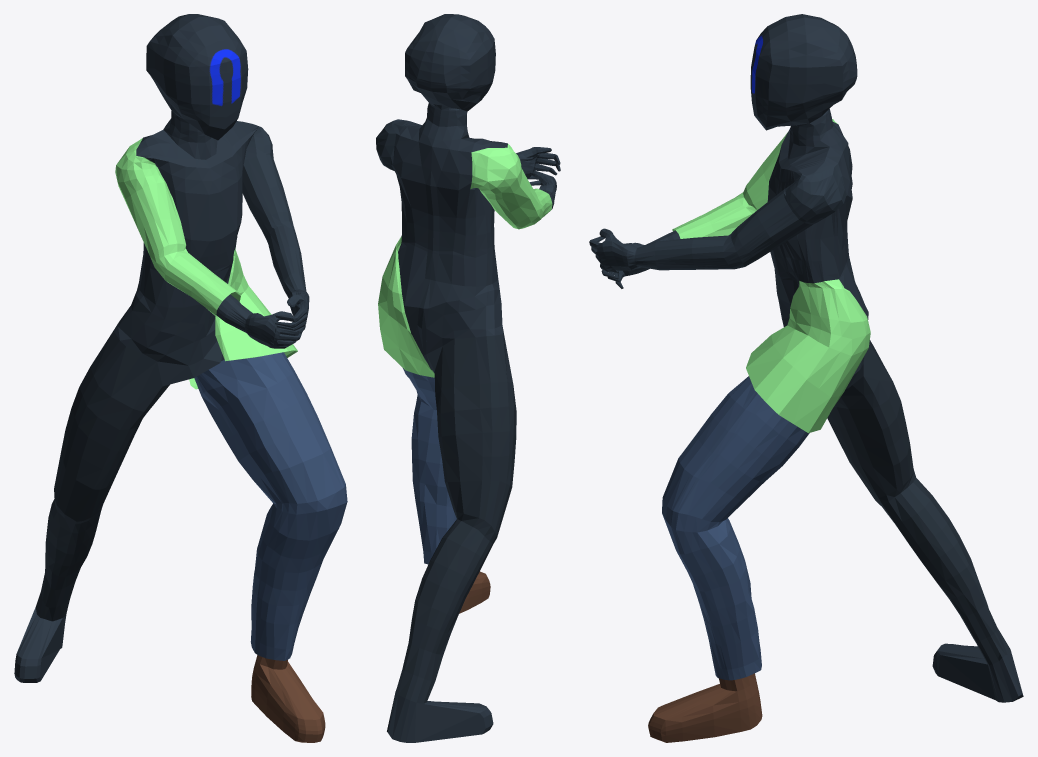
File: Mar_WR_000029.obj
3 views of the same model, side by side, from view 1: azimuth 30°, elevation 25°; view 2: azimuth 150°, elevation 25°; view 3: azimuth 270°, elevation 25° (orthographic). The views are drawn at different scales.
Parts seen in each view (by area): view 1: Cube.000_Cube.001; view 2: Cube.000_Cube.001; view 3: Cube.000_Cube.001.
Boxes of the visible parts, <box> form: Cube.000_Cube.001: <box>14,14,347,742</box>; Cube.000_Cube.001: <box>376,14,560,742</box>; Cube.000_Cube.001: <box>589,14,1023,742</box>.
Bounding box in the file's own units: 1.13 × 3.71 × 2.07.
